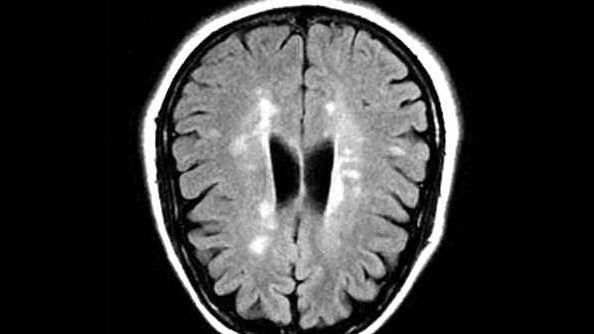Normal_Brain: (82, 1, 594, 334)
